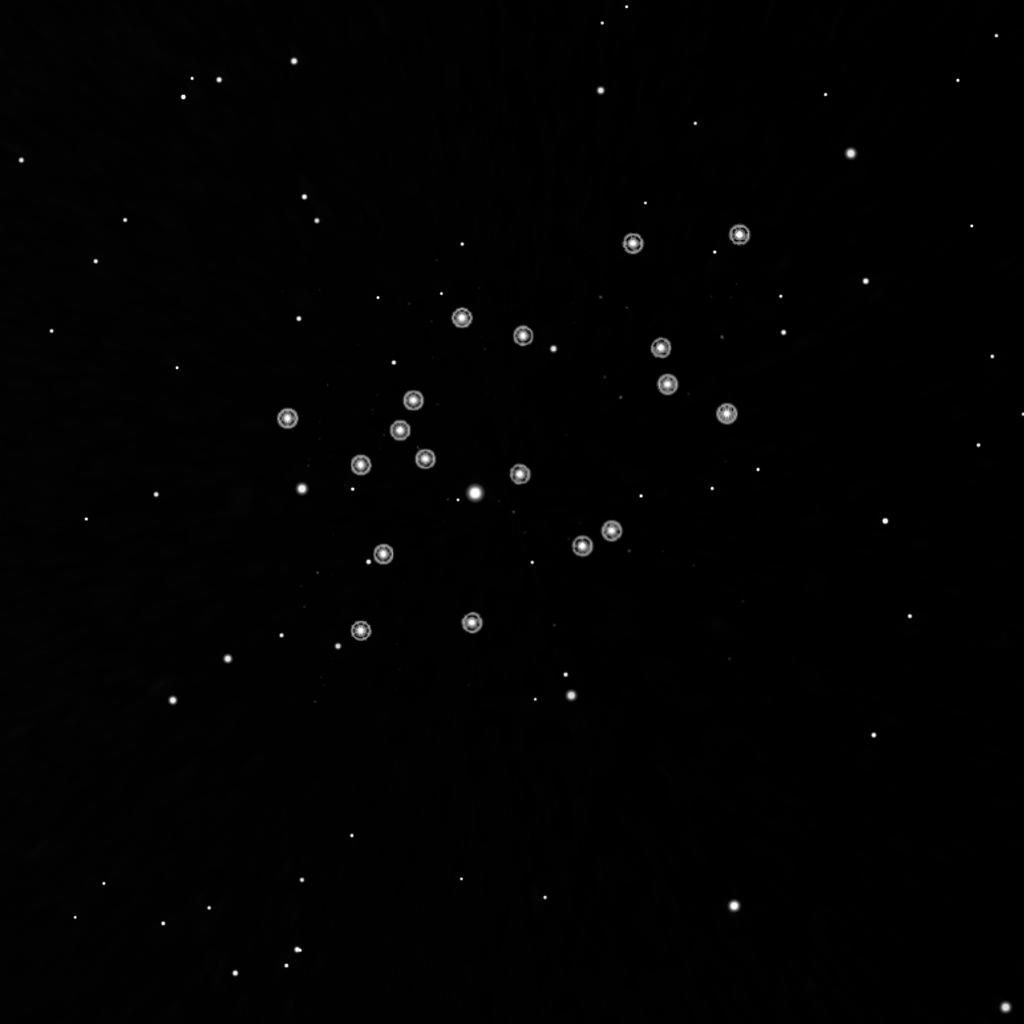canis_major: (346, 303, 537, 482)
